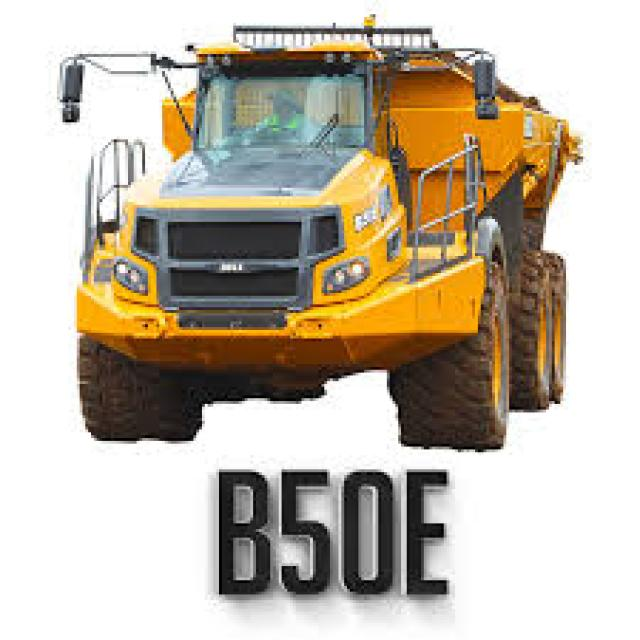dump_truck: (48, 20, 598, 478)
